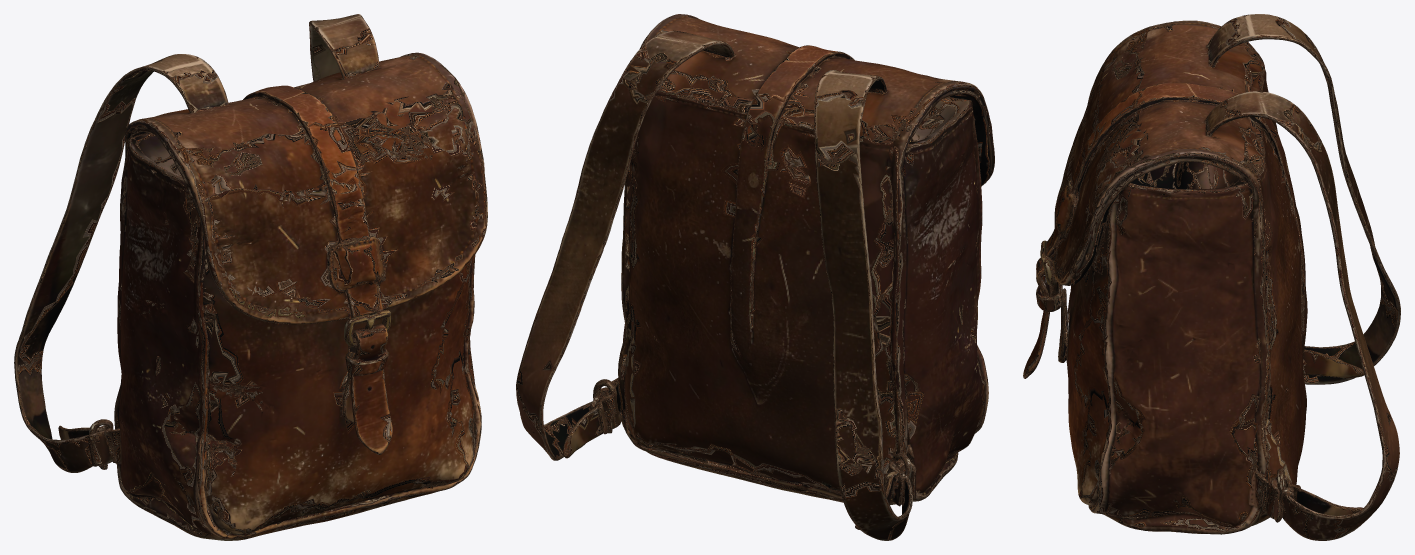
The model's file is Sacoche1-optimized.glb.
3 renders of one model, left to right at view 1: azimuth 30°, elevation 25°; view 2: azimuth 150°, elevation 25°; view 3: azimuth 270°, elevation 25°, orthographic. The views are drawn at different scales.
Parts seen in each view (by area): view 1: world; view 2: world; view 3: world.
Boxes of the visible parts, x1,y1,x2,y2 form: world: [14, 14, 487, 540]; world: [516, 14, 994, 540]; world: [1023, 14, 1400, 540].
Size of the model in its own units: 1.8 by 1.99 by 1.65.
Materials: 1 (1 with a texture image).
